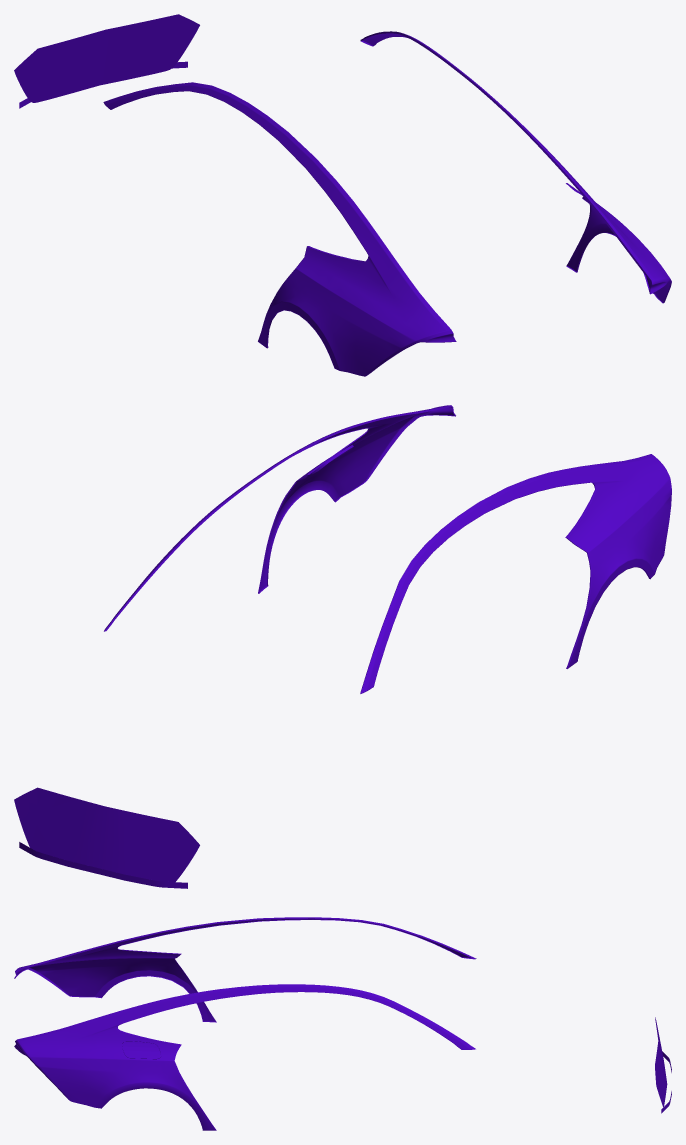
The model's file is kkk.FBX.
3 views of the same model, one above another, from view 1: azimuth 30°, elevation 25°; view 2: azimuth 150°, elevation 25°; view 3: azimuth 270°, elevation 25° (orthographic). The views are drawn at different scales.
Visible parts, largest first — view 1: ex59; view 2: ex59; view 3: ex59, Object26097.
Boxes of the visible parts, x1,y1,x2,y2 form: ex59: (14, 14, 671, 376); ex59: (14, 405, 671, 888); ex59: (14, 917, 671, 1130); Object26097: (122, 1041, 160, 1059).
Size of the model in its own units: 1.94 by 1.07 by 4.79.
